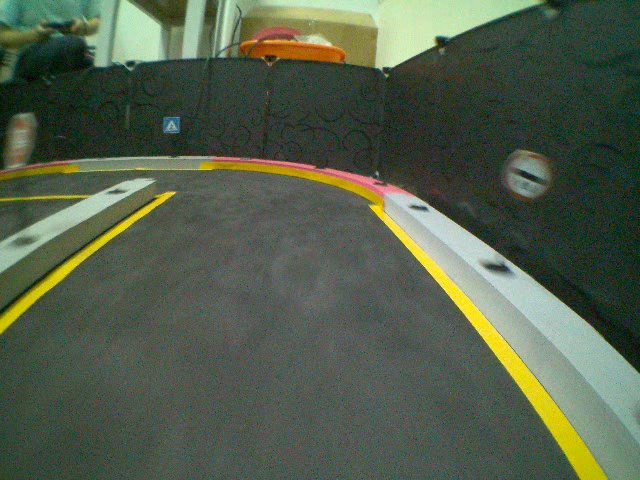Check: (500, 149, 556, 201)
crossing: (161, 115, 180, 135)
